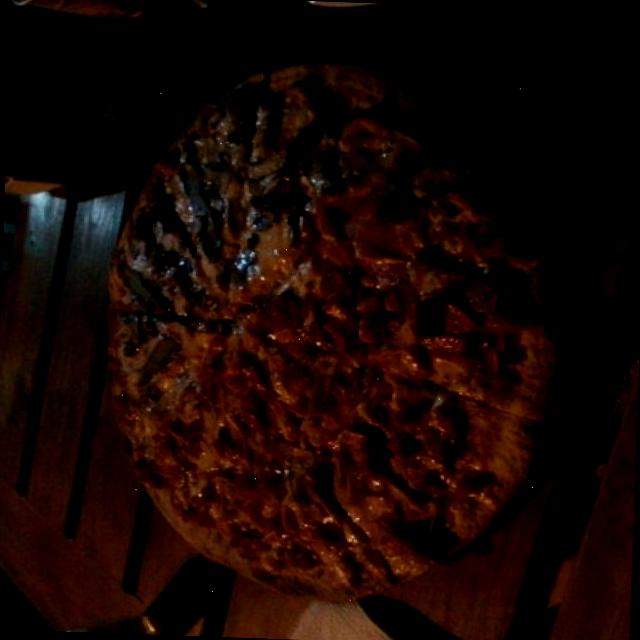pizza: (110, 62, 561, 599)
